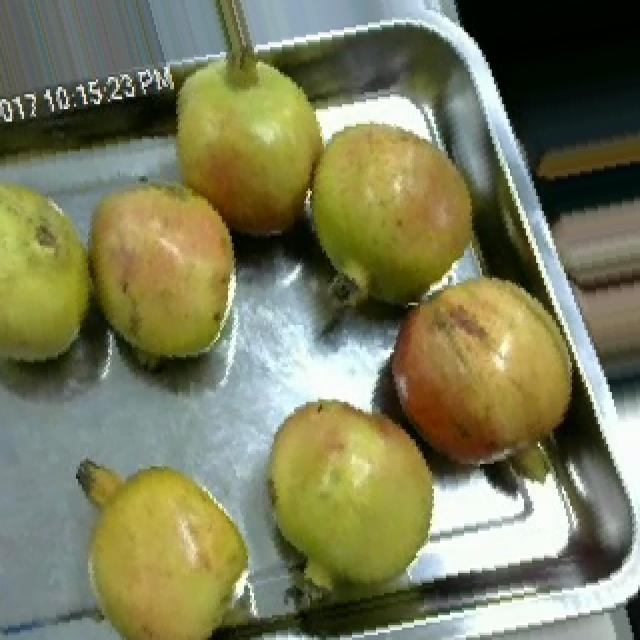fruit: (362, 248, 604, 504), (264, 94, 498, 345), (242, 377, 462, 630), (58, 156, 270, 394), (144, 32, 354, 268), (54, 434, 270, 640), (0, 151, 108, 387)
